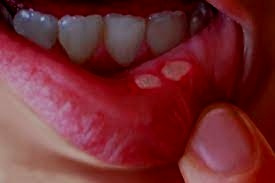Ulcer: (157, 59, 195, 84), (127, 72, 167, 91)
